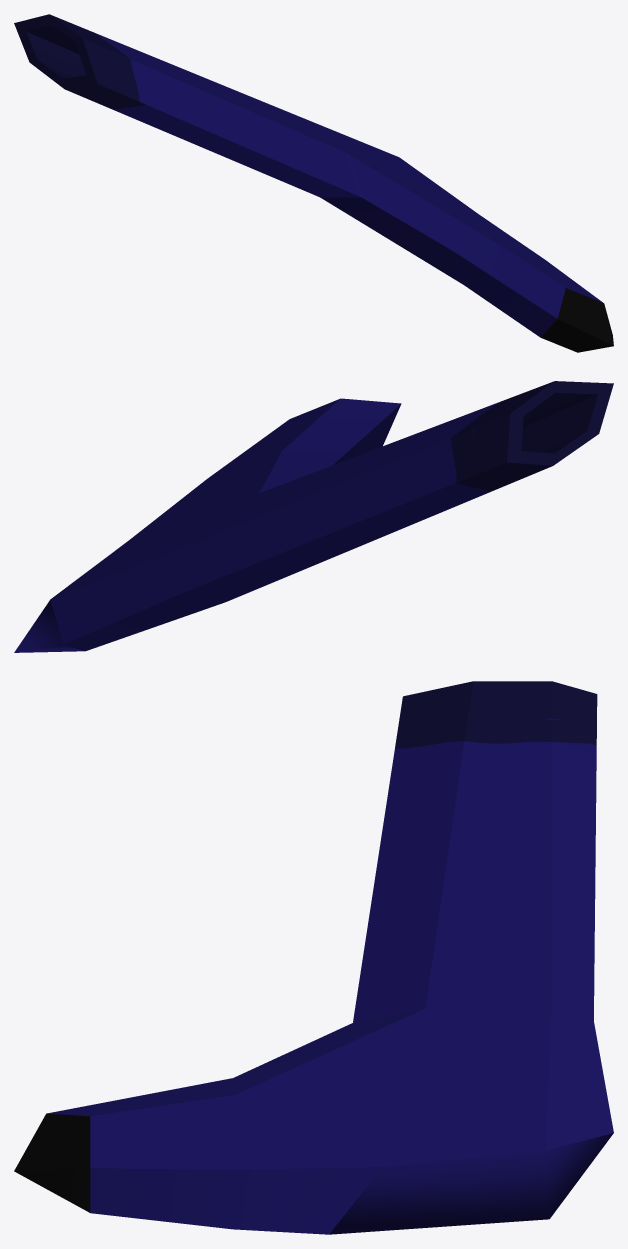
Rendered from sox.fbx.
3 views of the same model, one above another, from view 1: azimuth 30°, elevation 25°; view 2: azimuth 150°, elevation 25°; view 3: azimuth 270°, elevation 25° (orthographic). The views are drawn at different scales.
Parts seen in each view (by area): view 1: polySurface1; view 2: polySurface1; view 3: polySurface1.
Part boxes in pixels (left/top/right/bottom): polySurface1: left=14, top=14, right=613, bottom=352; polySurface1: left=14, top=381, right=613, bottom=652; polySurface1: left=14, top=681, right=613, bottom=1234.
Size of the model in its own units: 3.63 by 2.35 by 3.87.
1 material, 1 textured.
